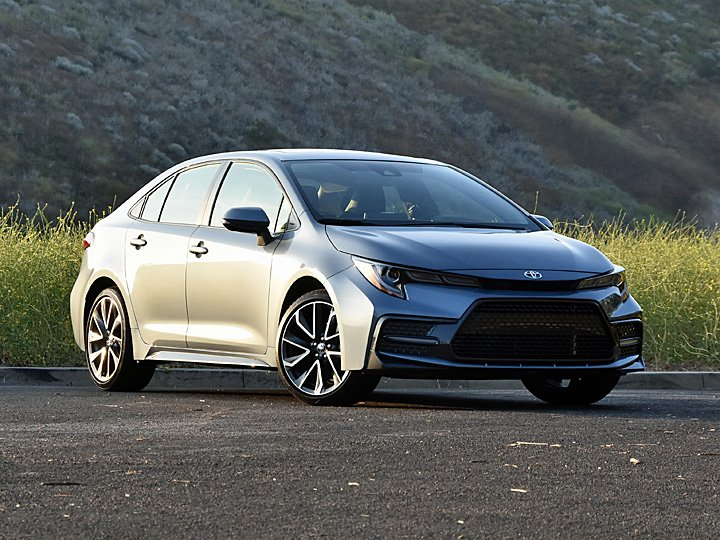car: (68, 146, 646, 409)
